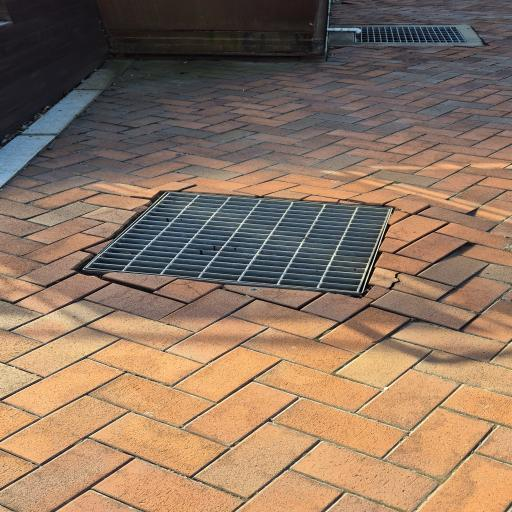drain: (84, 192, 391, 294)
